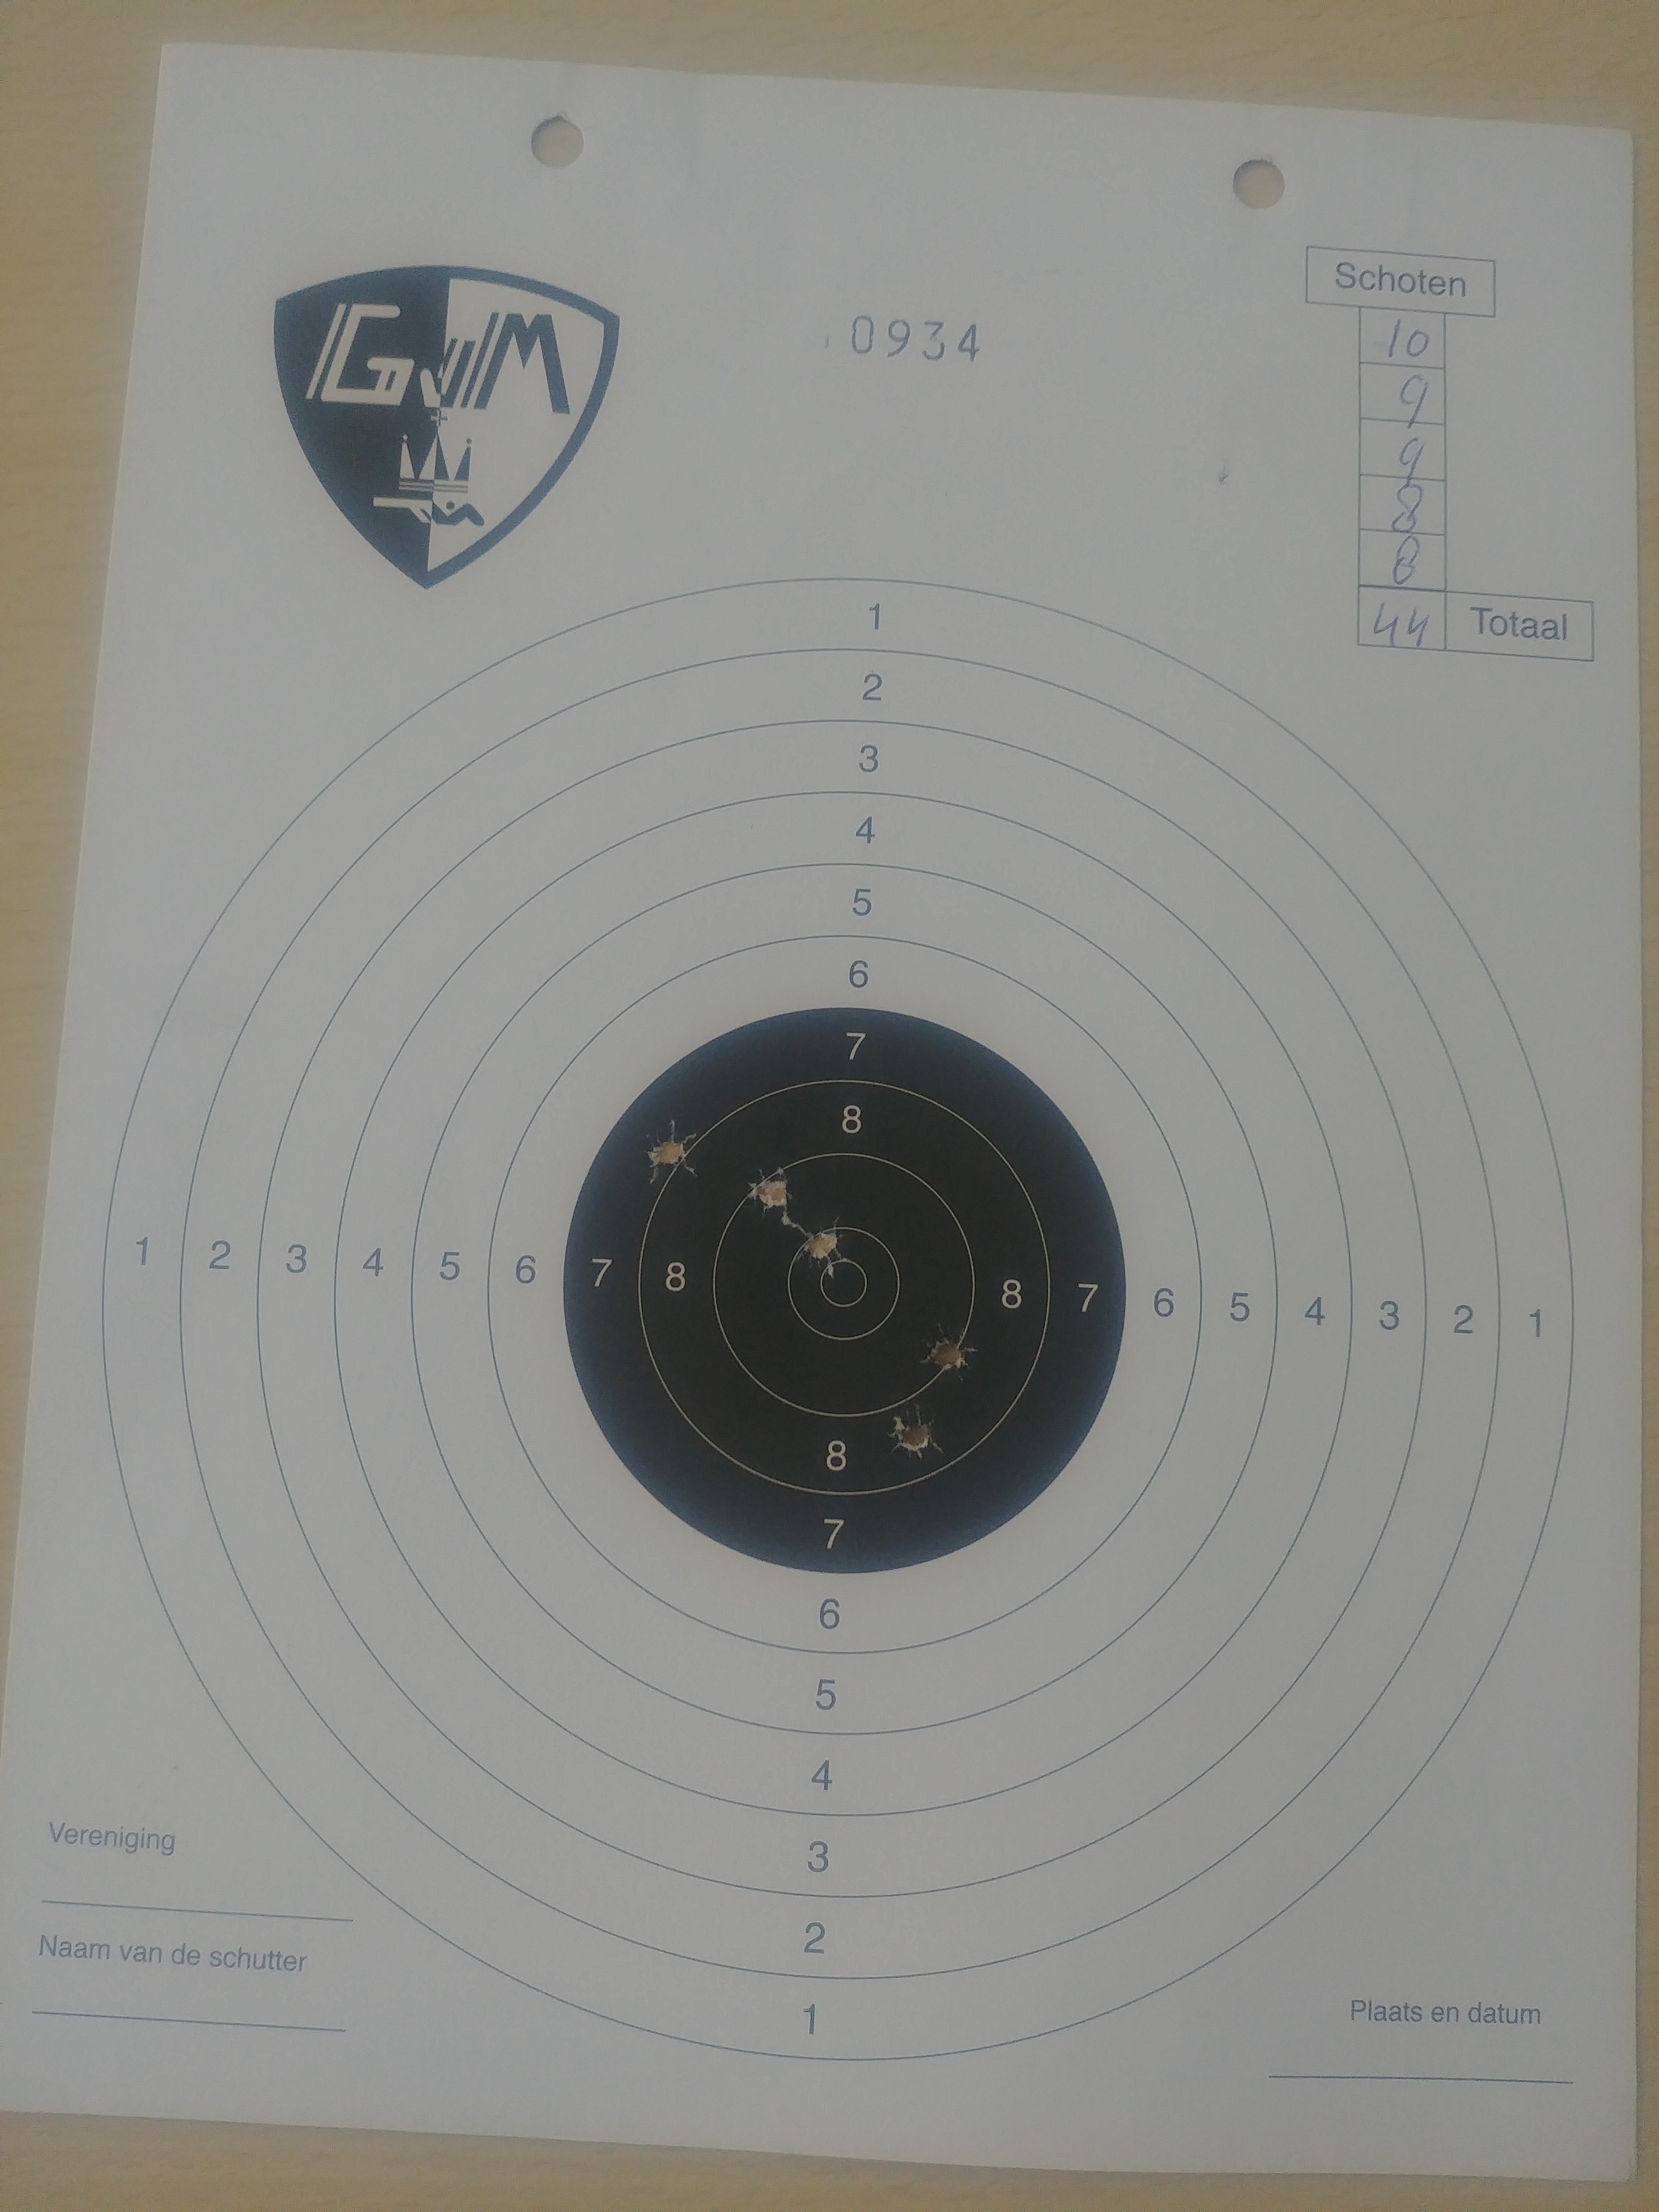center: (563, 1007, 1127, 1575)
out: (101, 578, 1575, 2060)
shot: (781, 1217, 849, 1278), (638, 1118, 699, 1184), (918, 1322, 979, 1383), (887, 1404, 945, 1460), (746, 1167, 796, 1217)
target: (788, 1226, 899, 1341)
